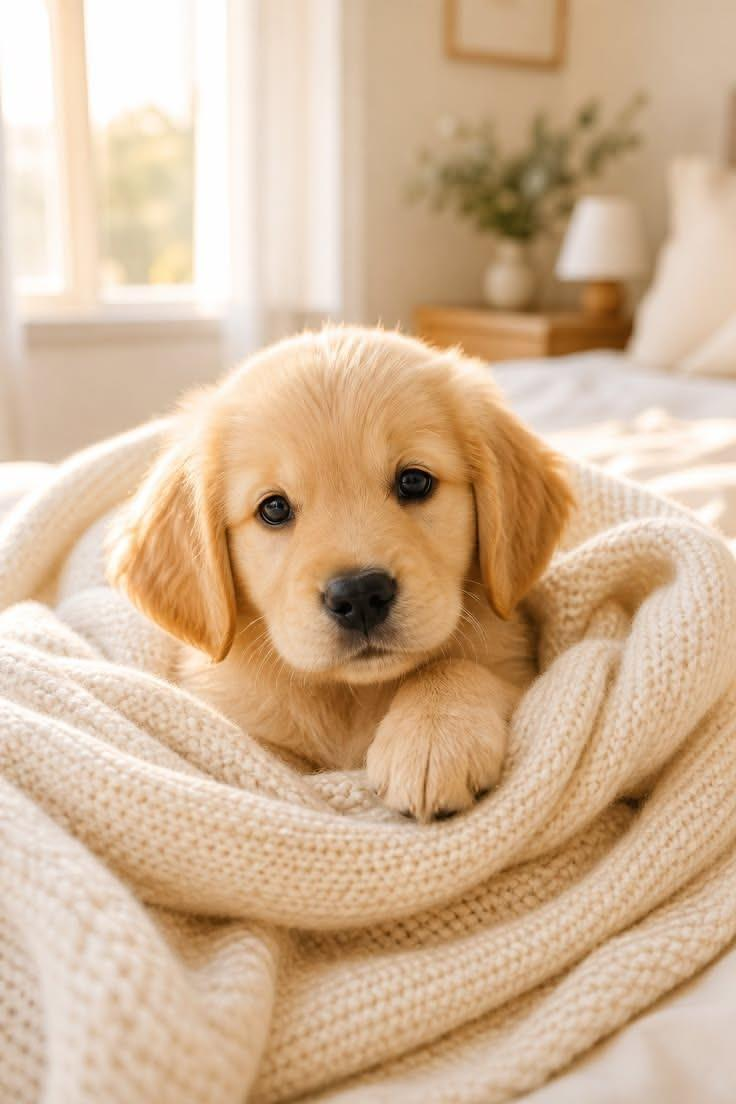puppy-dog: (103, 322, 576, 821)
